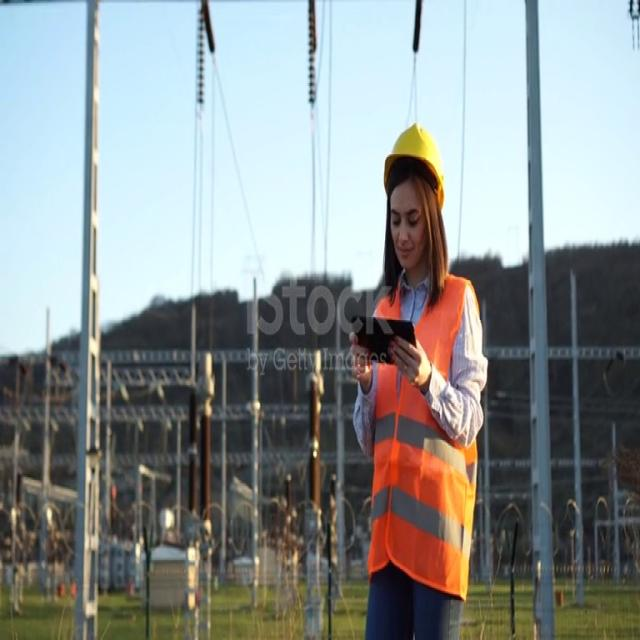capacete: (366, 113, 456, 224)
